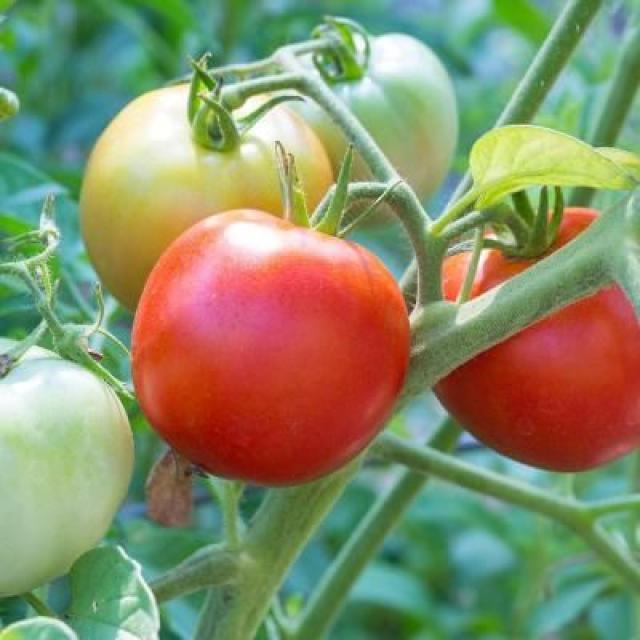level 1: (272, 27, 462, 217)
level 2: (0, 331, 131, 596)
level 3: (80, 80, 336, 323)
level 6: (130, 208, 415, 488), (432, 207, 640, 474)
